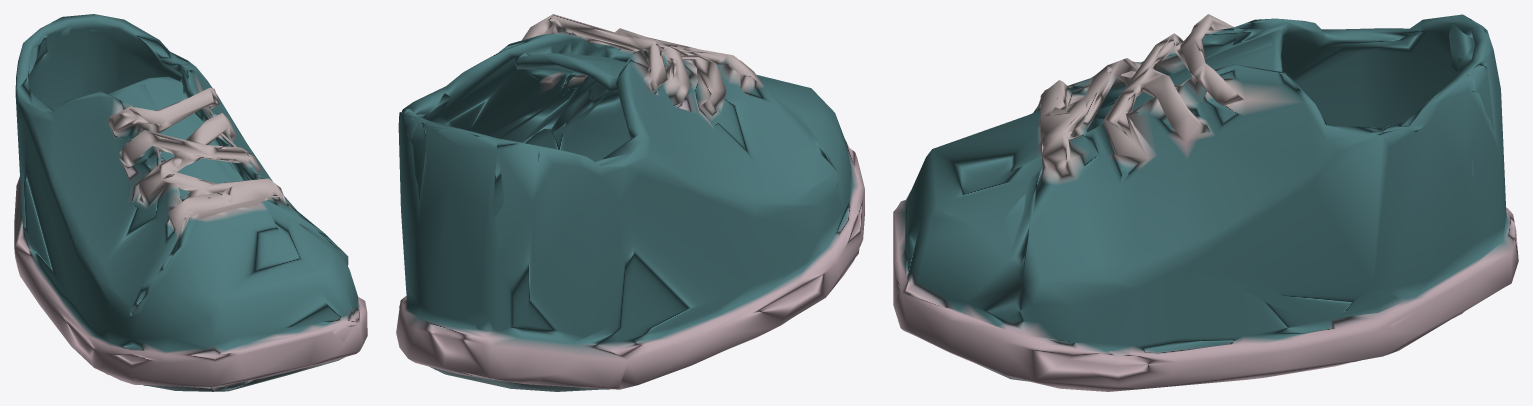
The model's file is gen3d-shoe-lod0.glb.
3 views of the same model, side by side, from view 1: azimuth 30°, elevation 25°; view 2: azimuth 150°, elevation 25°; view 3: azimuth 270°, elevation 25° (orthographic). The views are drawn at different scales.
Visible parts, largest first — view 1: part_0; view 2: part_0; view 3: part_0.
Boxes of the visible parts, bbox=[...] form: part_0: bbox=[14, 14, 367, 391]; part_0: bbox=[396, 14, 864, 391]; part_0: bbox=[893, 14, 1518, 391].
Bounding box in the file's own units: 1.18 × 0.9985 × 2.
